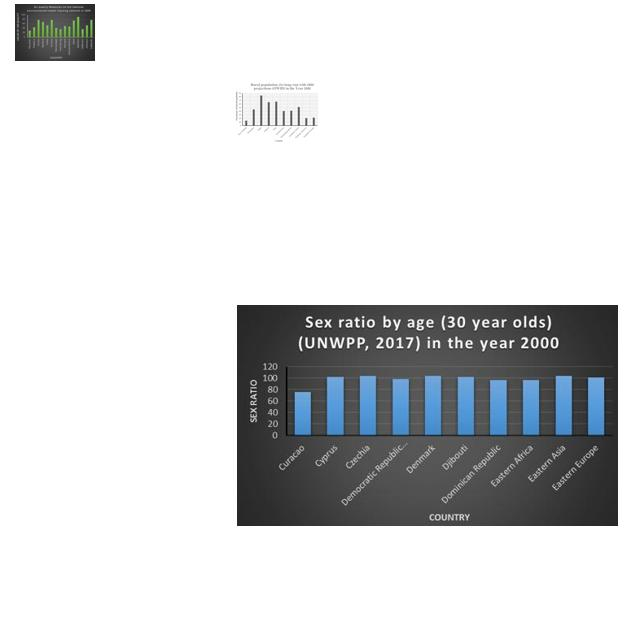Graph: (237, 305, 618, 526), (234, 82, 319, 143), (15, 4, 95, 61)
